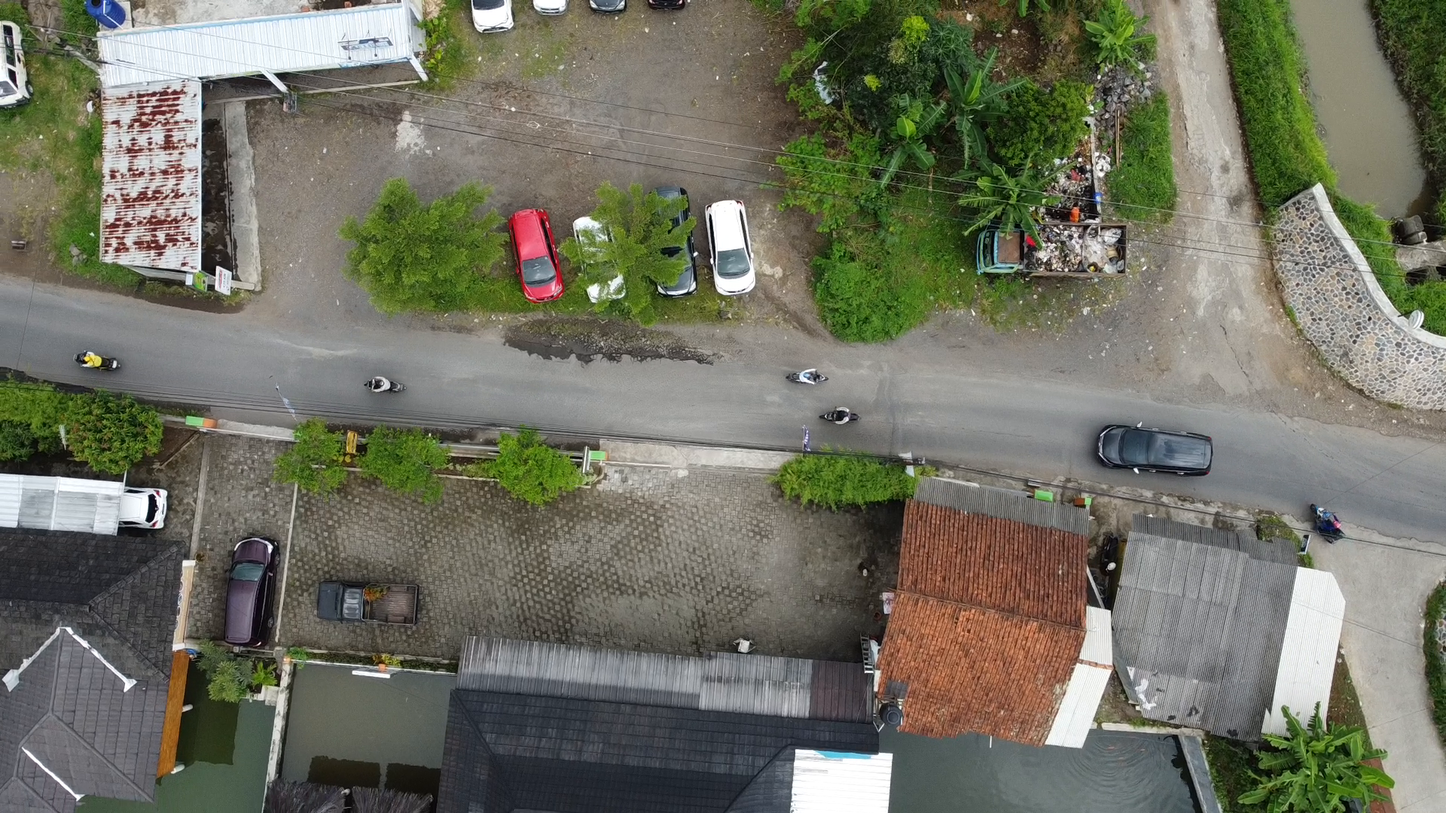mobil: (637, 174, 708, 305), (1086, 419, 1220, 480), (315, 569, 440, 630), (700, 190, 764, 304), (227, 531, 285, 656), (568, 209, 635, 310), (504, 202, 566, 300), (1, 9, 46, 115), (111, 483, 175, 523)
